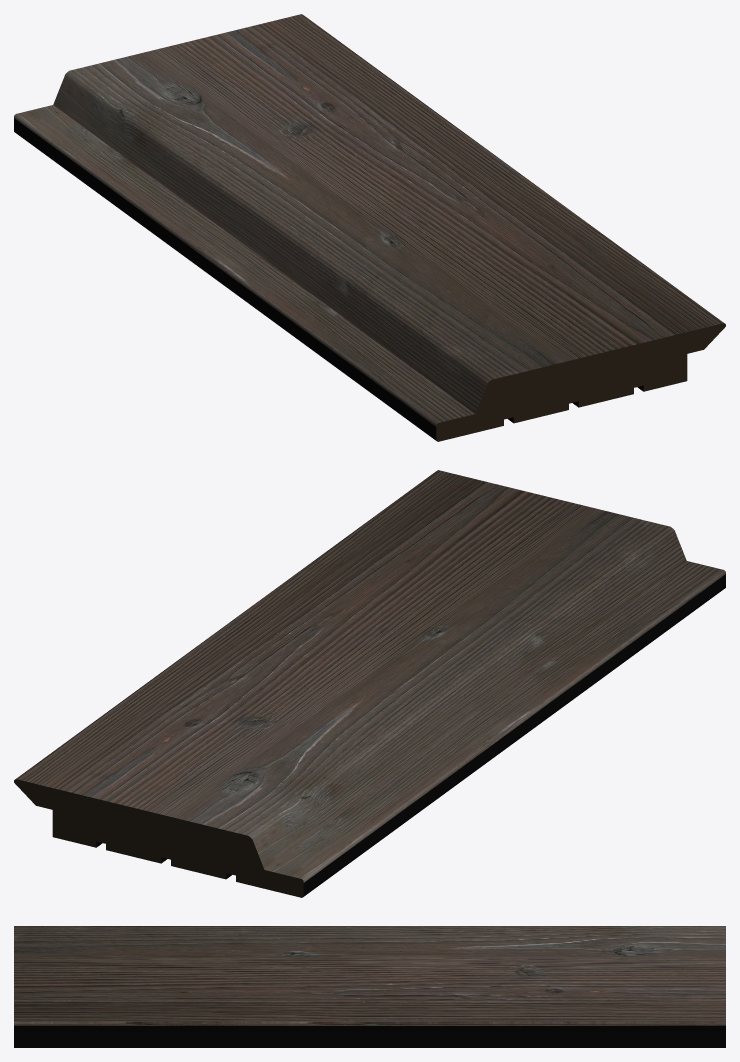
File: spruce-facade-half-tongue-45-dark-brown.glb
3 renders of one model, top to bottom at view 1: azimuth 30°, elevation 25°; view 2: azimuth 150°, elevation 25°; view 3: azimuth 270°, elevation 25°, orthographic. The views are drawn at different scales.
Parts seen in each view (by area): view 1: Pusė_Špunto_45; view 2: Pusė_Špunto_45; view 3: Pusė_Špunto_45.
Boxes of the visible parts, x1,y1,x2,y2 form: Pusė_Špunto_45: (14,14,725,441); Pusė_Špunto_45: (14,470,725,897); Pusė_Špunto_45: (14,926,725,1047).
Size of the model in its own units: 0.0723 by 0.0117 by 0.1826.
Materials: 3 (1 with a texture image).
